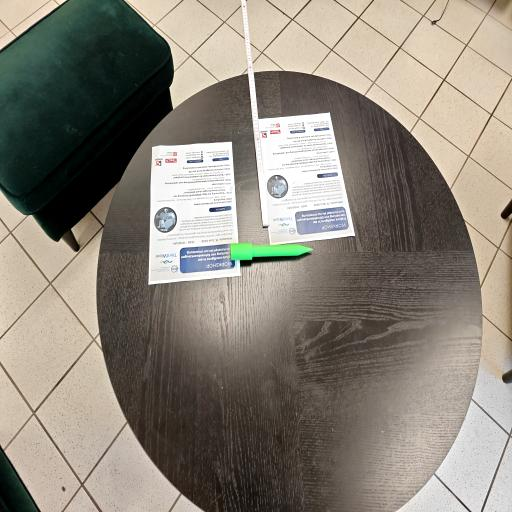Probe-Detection: (230, 243, 312, 260)
